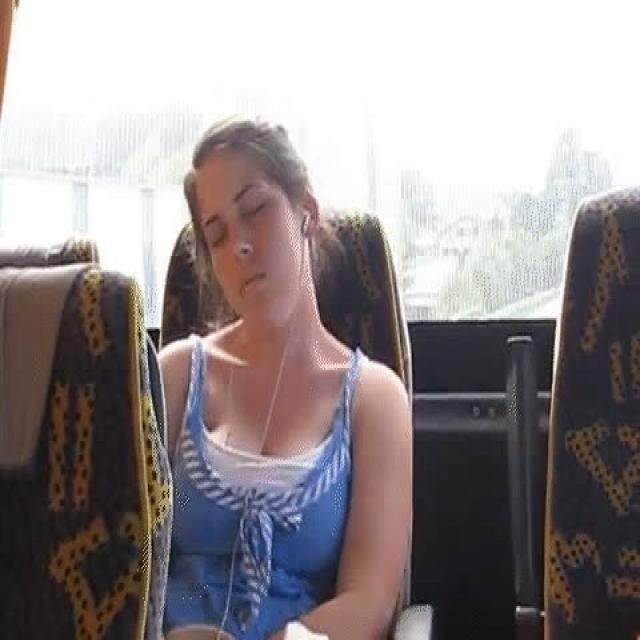no-seatbelt: (189, 116, 324, 326)
